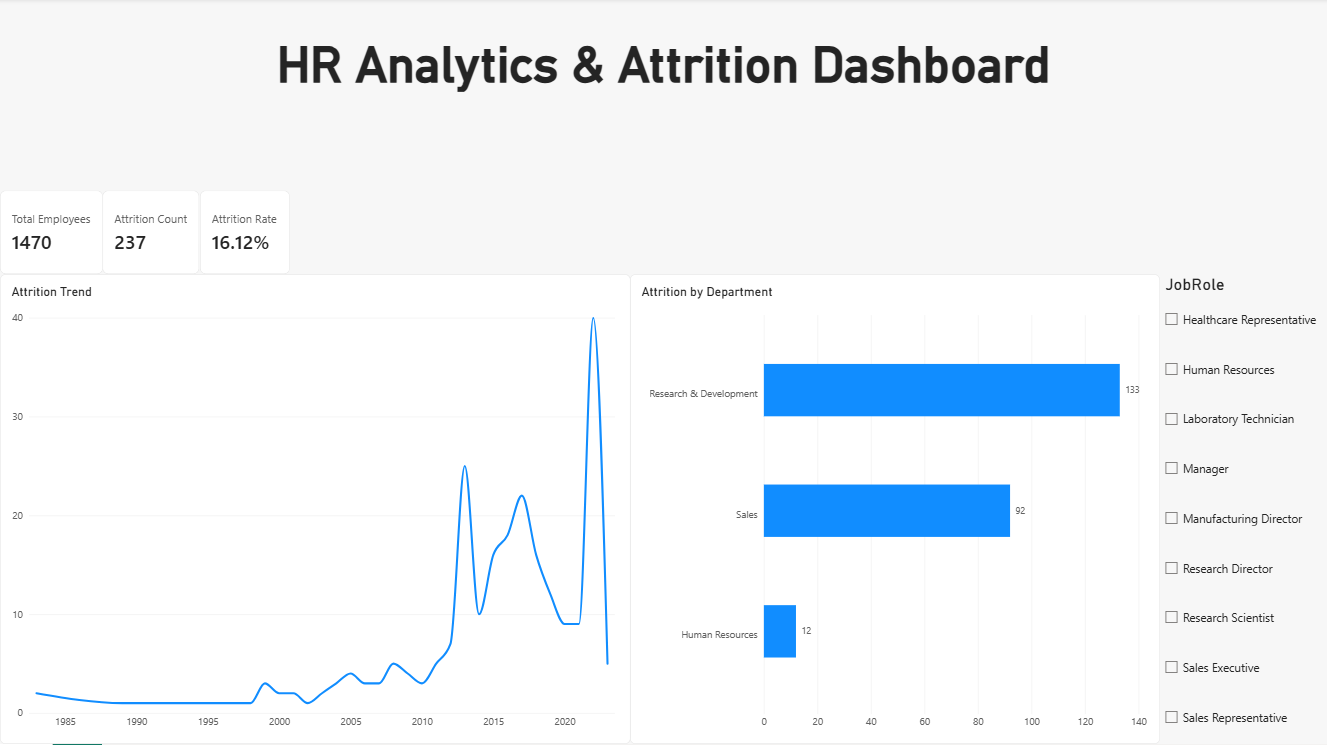

Layout of this report page (visuals, bound fields, positions):
{"tool":"powerbi","page":{"name":"1. sayfa","canvas":[1920,1080],"ordinal":0},"visuals":[{"type":"cardVisual","fields":{"Data":["HR_Analytics_Fact.Toplam_Calisan"]},"box":[0,278.2,149.1,121.8],"z":0},{"type":"cardVisual","fields":{"Data":["HR_Analytics_Fact.Isten_Ayrilanlar"]},"box":[149.1,278.2,140,121.8],"z":1},{"type":"cardVisual","fields":{"Data":["HR_Analytics_Fact.Ayrilma_Orani"]},"box":[289.1,278.2,130.9,121.8],"z":2},{"type":"clusteredBarChart","title":"Attrition by Department","fields":{"Category":["HR_Analytics_Fact.Department"],"Y":["HR_Analytics_Fact.Isten_Ayrilanlar"]},"box":[912.7,400,767.3,680],"z":3},{"type":"lineChart","title":"Attrition Trend","fields":{"Category":["Takvim.Date.Variation.Tarih Hiyerarşisi.Yıl","Takvim.Date.Variation.Tarih Hiyerarşisi.Çeyrek","Takvim.Date.Variation.Tarih Hiyerarşisi.Ay","Takvim.Date.Variation.Tarih Hiyerarşisi.Gün"],"Y":["HR_Analytics_Fact.Isten_Ayrilanlar"]},"box":[0,400,912.7,680],"z":4},{"type":"slicer","fields":{"Values":["HR_Analytics_Fact.JobRole"]},"box":[1680,400,240,680],"z":5},{"type":"textbox","title":"HR Analytics & Attrition Dashboard","box":[396.4,54.5,1129.1,96.4],"z":6}]}

Visuals, with their boxes in screenshot pixels (x1, y1, x2, y2), scaled from the page's 1920x1080 canvas onto the 1327x745 screenshot:
cardVisual - HR_Analytics_Fact.Toplam_Calisan: {"x1": 0, "y1": 192, "x2": 103, "y2": 276}
cardVisual - HR_Analytics_Fact.Isten_Ayrilanlar: {"x1": 103, "y1": 192, "x2": 200, "y2": 276}
cardVisual - HR_Analytics_Fact.Ayrilma_Orani: {"x1": 200, "y1": 192, "x2": 290, "y2": 276}
"Attrition by Department" clusteredBarChart: {"x1": 631, "y1": 276, "x2": 1161, "y2": 744}
"Attrition Trend" lineChart: {"x1": 0, "y1": 276, "x2": 631, "y2": 744}
slicer - HR_Analytics_Fact.JobRole: {"x1": 1161, "y1": 276, "x2": 1326, "y2": 744}
"HR Analytics & Attrition Dashboard" textbox: {"x1": 274, "y1": 38, "x2": 1054, "y2": 104}
